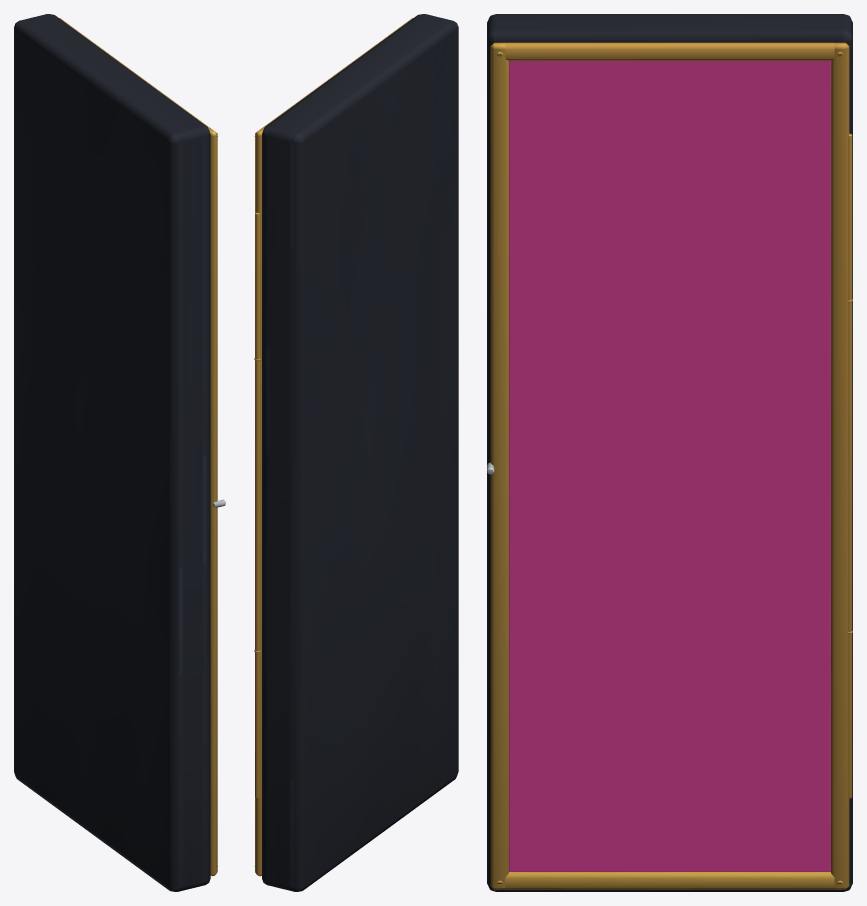
The model's file is SM_Cinema_PosterCase.fbx.
3 renders of one model, left to right at view 1: azimuth 30°, elevation 25°; view 2: azimuth 150°, elevation 25°; view 3: azimuth 270°, elevation 25°, orthographic. The views are drawn at different scales.
Visible parts, largest first — view 1: SM_Cinema_PosterCase; view 2: SM_Cinema_PosterCase; view 3: SM_Cinema_PosterCase.
Part boxes in pixels (left/top/right/bottom): SM_Cinema_PosterCase: left=14, top=14, right=225, bottom=891; SM_Cinema_PosterCase: left=254, top=14, right=458, bottom=891; SM_Cinema_PosterCase: left=487, top=14, right=852, bottom=891.
Size of the model in its own units: 39.08 by 520 by 200.
